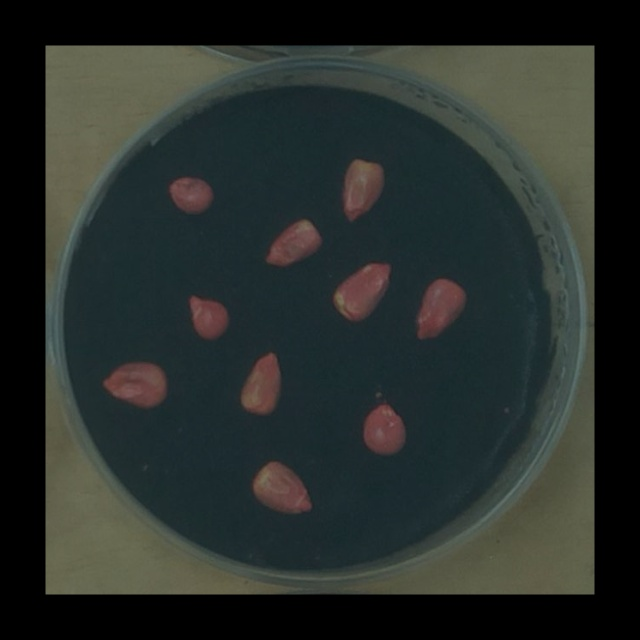Zea mays: (326, 255, 398, 329), (245, 454, 320, 524), (95, 355, 174, 416), (408, 271, 472, 346), (336, 153, 392, 229), (259, 213, 329, 273), (234, 347, 289, 423), (356, 396, 412, 462), (181, 289, 236, 348), (163, 171, 220, 223)
